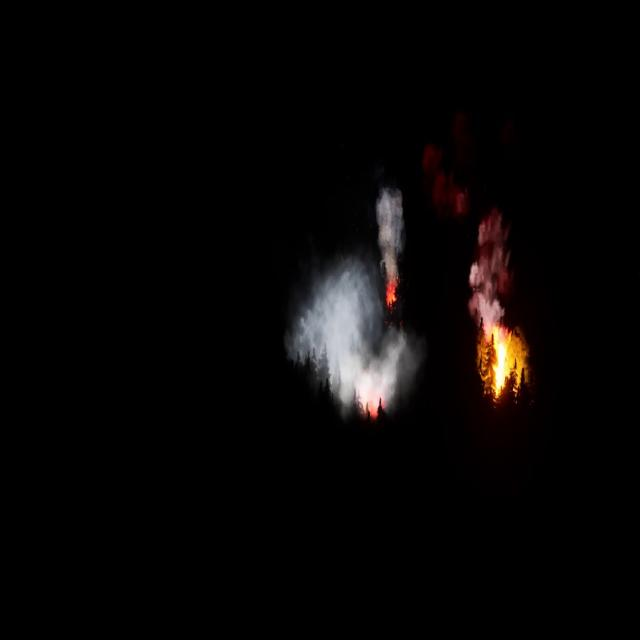fire: (485, 329, 516, 395), (387, 277, 399, 306)
smoke: (286, 253, 419, 418), (469, 210, 510, 315), (375, 183, 406, 277)
